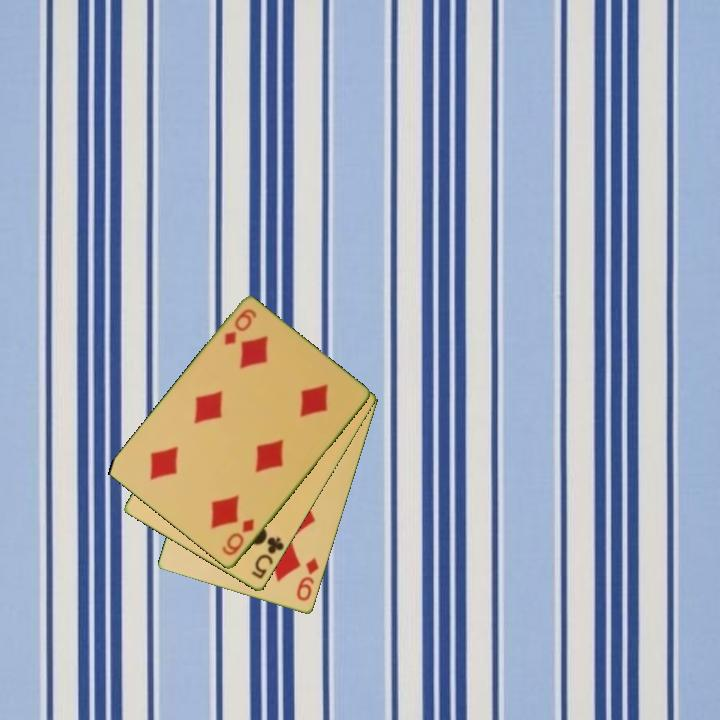5c: (248, 533, 287, 582)
6d: (219, 515, 258, 559), (220, 306, 259, 349)
9d: (293, 554, 322, 604)
